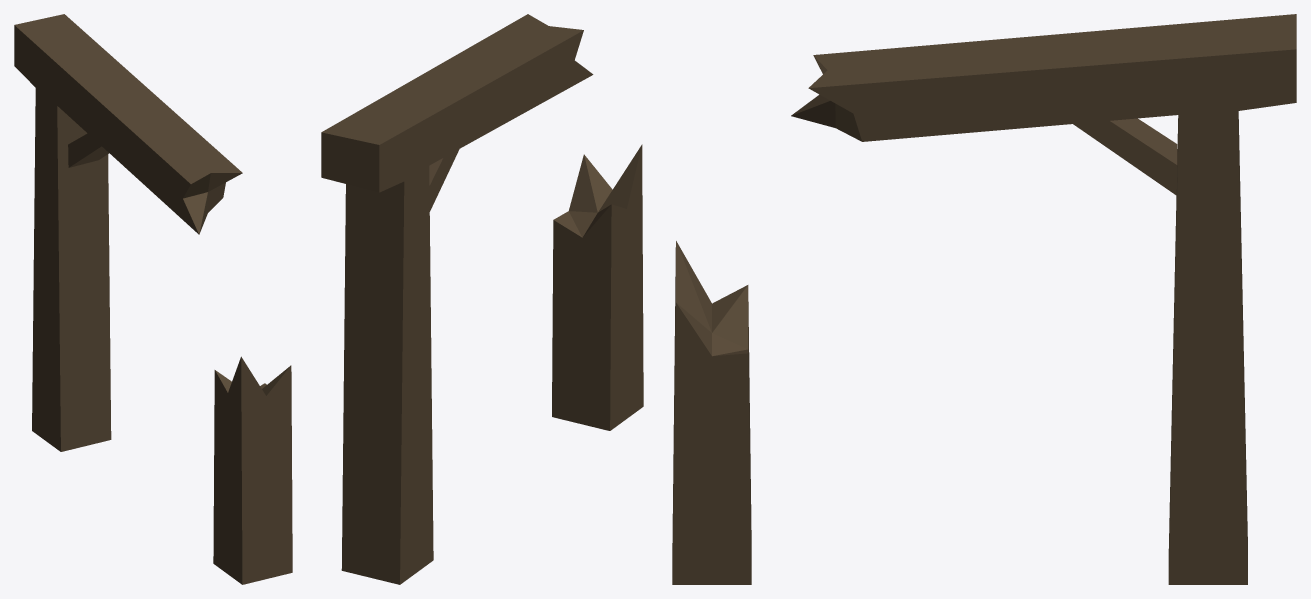
File: MineBrokenFrame05.fbx
3 views of the same model, side by side, from view 1: azimuth 30°, elevation 25°; view 2: azimuth 150°, elevation 25°; view 3: azimuth 270°, elevation 25° (orthographic). The views are drawn at different scales.
Parts seen in each view (by area): view 1: MineBrokenFrame05; view 2: MineBrokenFrame05; view 3: MineBrokenFrame05.
Boxes of the visible parts, left/top/right/bottom form: MineBrokenFrame05: left=14, top=14, right=292, bottom=584; MineBrokenFrame05: left=321, top=14, right=643, bottom=584; MineBrokenFrame05: left=672, top=14, right=1296, bottom=584.
Size of the model in its own units: 396 by 377 by 50.42.
